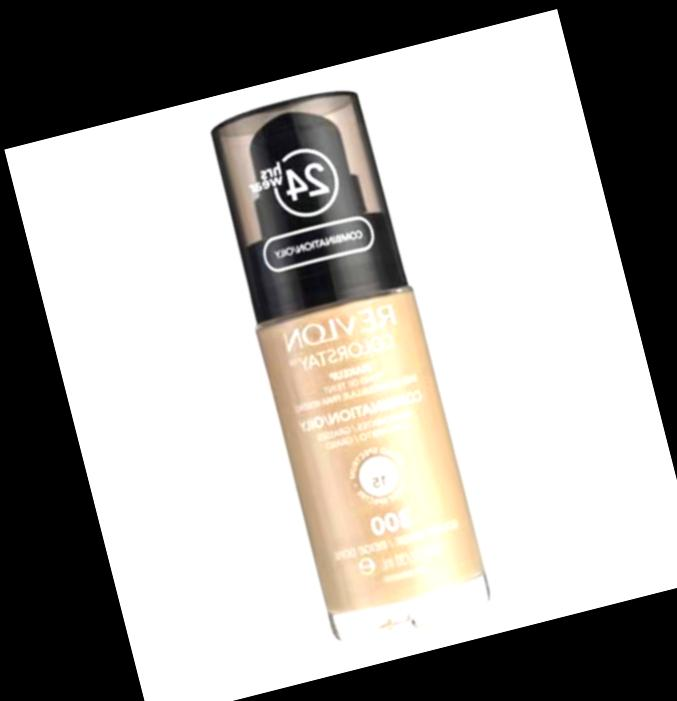cosmetic: (199, 81, 493, 642)
